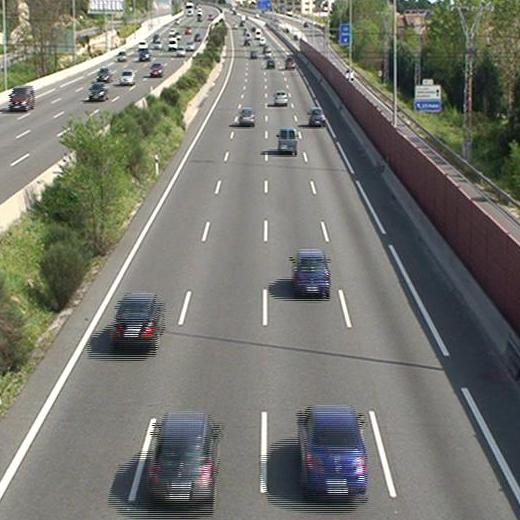car: (295, 406, 371, 498), (147, 415, 224, 504), (112, 294, 165, 345), (290, 251, 332, 295), (238, 106, 256, 125), (308, 108, 325, 126), (273, 90, 287, 107), (284, 56, 297, 69), (263, 58, 275, 69)
van: (276, 127, 298, 153)
